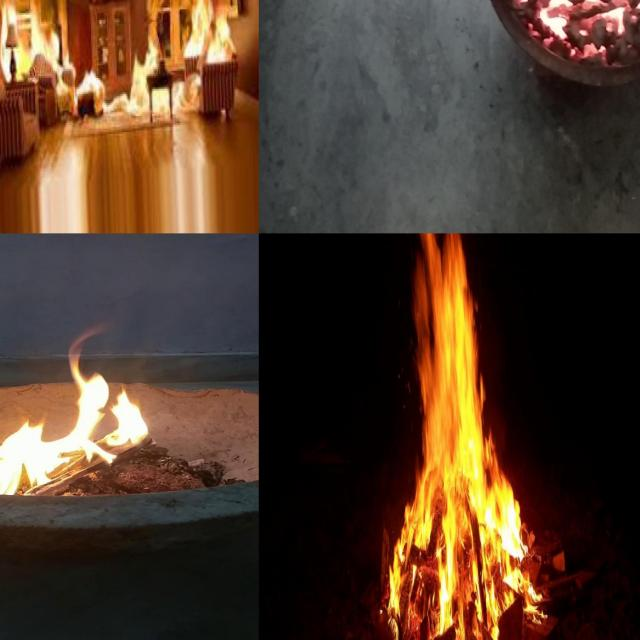fire: (387, 233, 539, 640), (0, 316, 168, 494), (516, 0, 640, 61), (128, 45, 176, 116), (42, 22, 76, 96), (0, 0, 29, 80), (206, 2, 236, 76), (186, 0, 214, 63), (76, 59, 106, 100)
